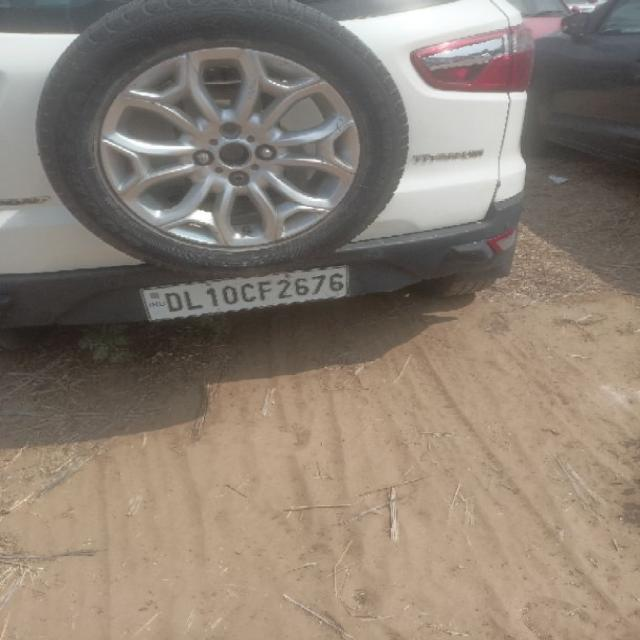license_plate: (138, 264, 350, 322)
